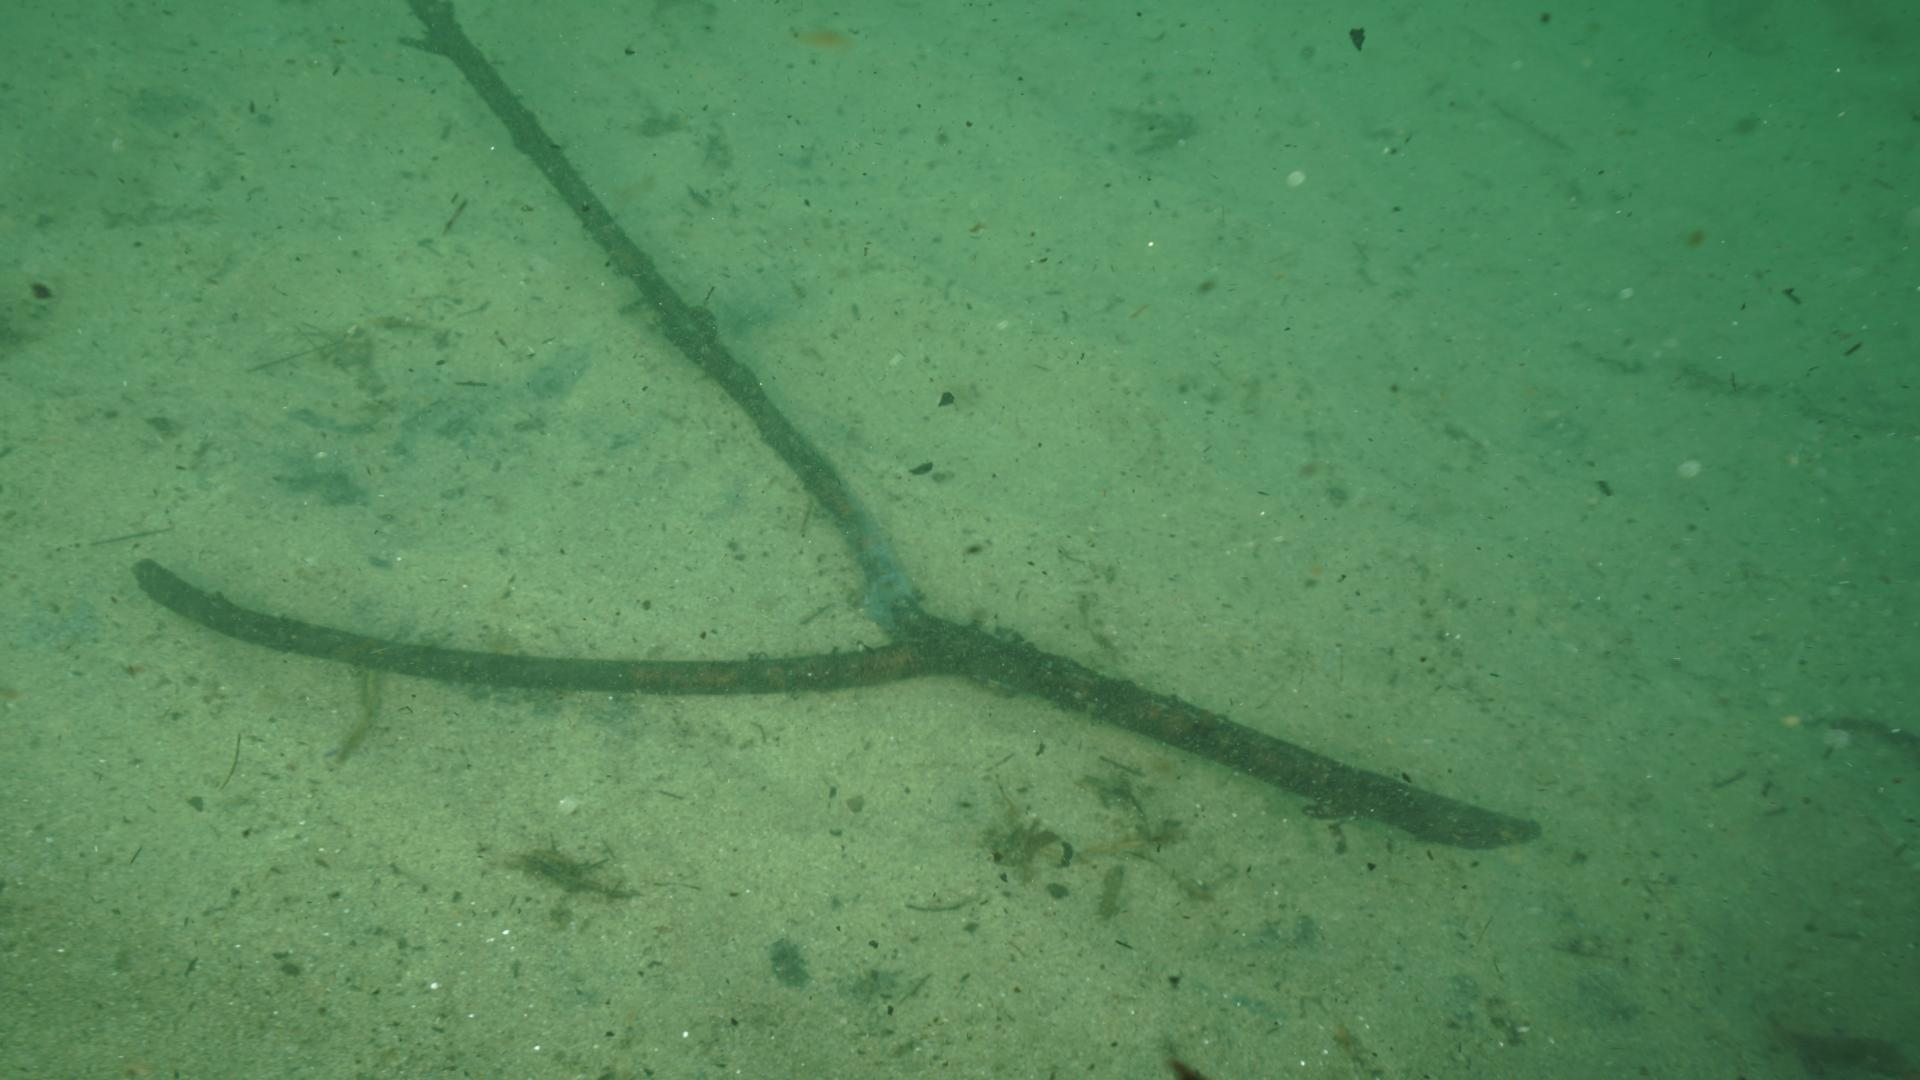wood: (131, 3, 1538, 853)
